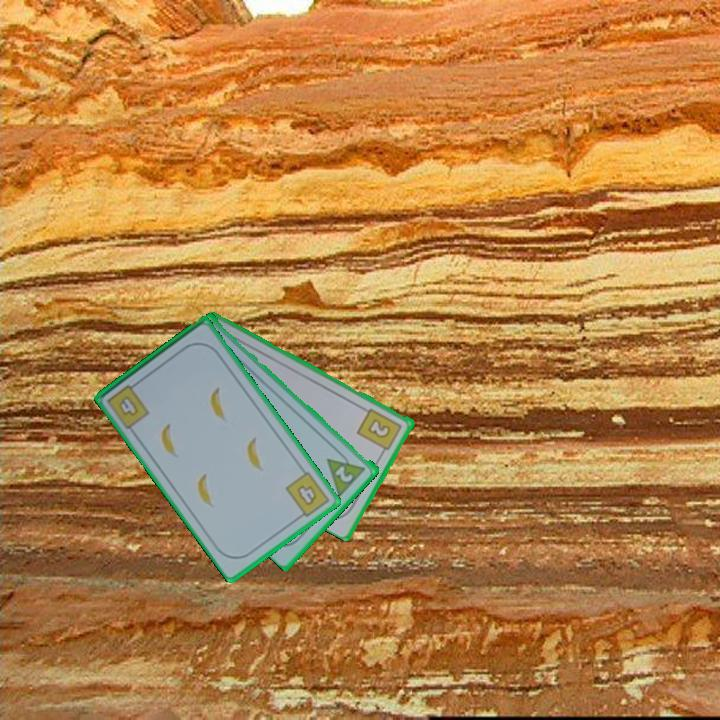2b: (354, 405, 405, 458)
2p: (323, 445, 369, 499)
4b: (282, 468, 333, 523), (103, 378, 153, 430)
